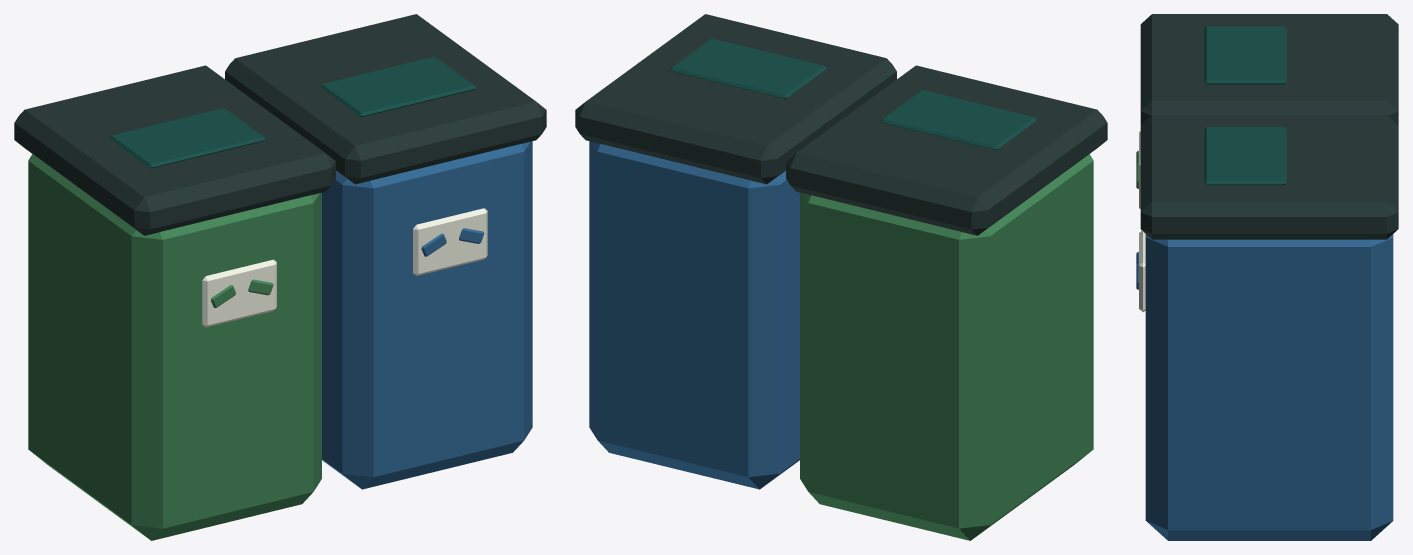
The model's file is recycling_bin.glb.
The picture shows the model from 3 angles, left to right: view 1: azimuth 30°, elevation 25°; view 2: azimuth 150°, elevation 25°; view 3: azimuth 270°, elevation 25°; orthographic projection.
Visible parts, largest first — view 1: Recipiente, Recipiente.001, Tampa, Boca, Etiqueta; view 2: Recipiente, Recipiente.001, Tampa, Boca; view 3: Recipiente.001, Tampa, Boca, Etiqueta.
Boxes of the visible parts, x1=… form: Recipiente: x1=28, y1=154, x2=321, y2=540; Recipiente.001: x1=322, y1=141, x2=532, y2=489; Tampa: x1=14, y1=14, x2=546, y2=235; Boca: x1=109, y1=56, x2=476, y2=168; Etiqueta: x1=202, y1=208, x2=487, y2=327; Recipiente: x1=800, y1=154, x2=1093, y2=540; Recipiente.001: x1=589, y1=141, x2=799, y2=489; Tampa: x1=575, y1=14, x2=1107, y2=235; Boca: x1=670, y1=38, x2=1036, y2=150; Recipiente.001: x1=1136, y1=234, x2=1393, y2=540; Tampa: x1=1140, y1=14, x2=1398, y2=239; Boca: x1=1204, y1=26, x2=1286, y2=185; Etiqueta: x1=1139, y1=131, x2=1145, y2=311.
Bounding box in the file's own units: 0.771 × 0.639 × 0.433.
